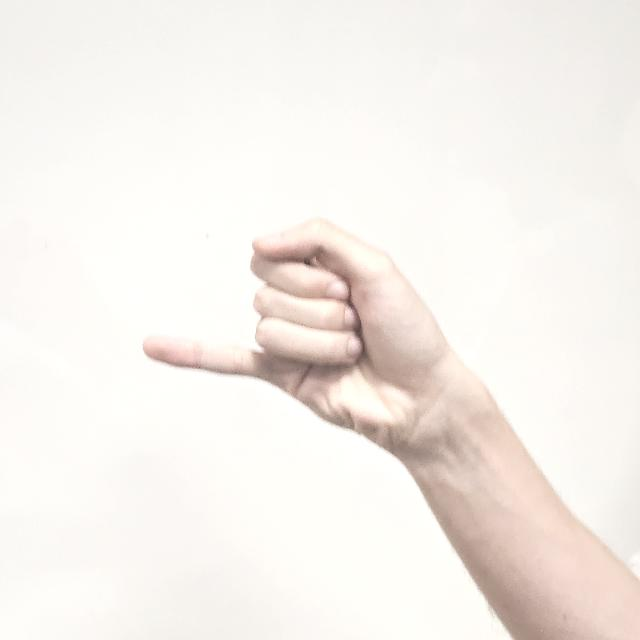Esquerda: (154, 197, 452, 451)
